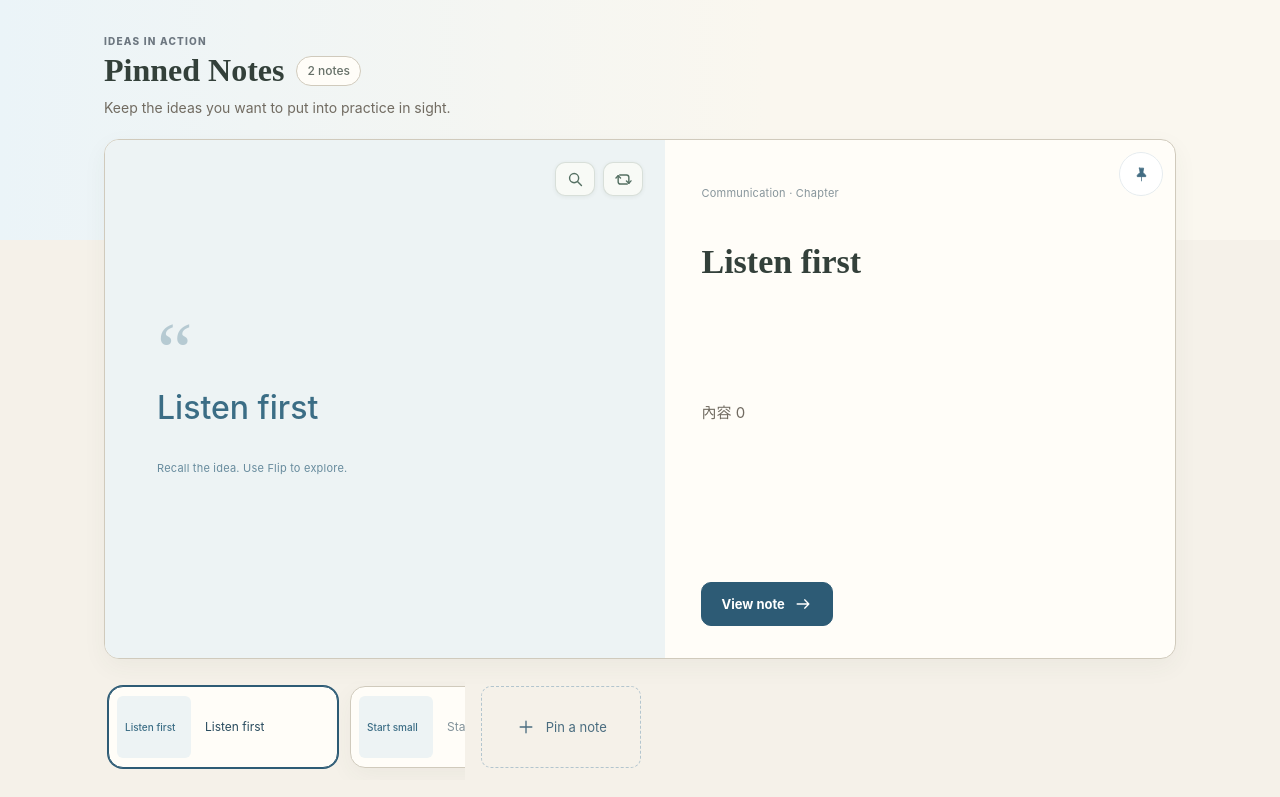
Test: F45 T4: focus shows one note, thumbnails select, picker filters, pins and prevents duplicate selection
Expected: the heading "Pinned Notes 2 notes" is shown, [104, 52, 361, 88]
Expected: the heading "Listen first" is shown, [702, 243, 861, 280]
Click the button with aria-label "Select note: Start small" at (465, 727), box [350, 686, 580, 768]
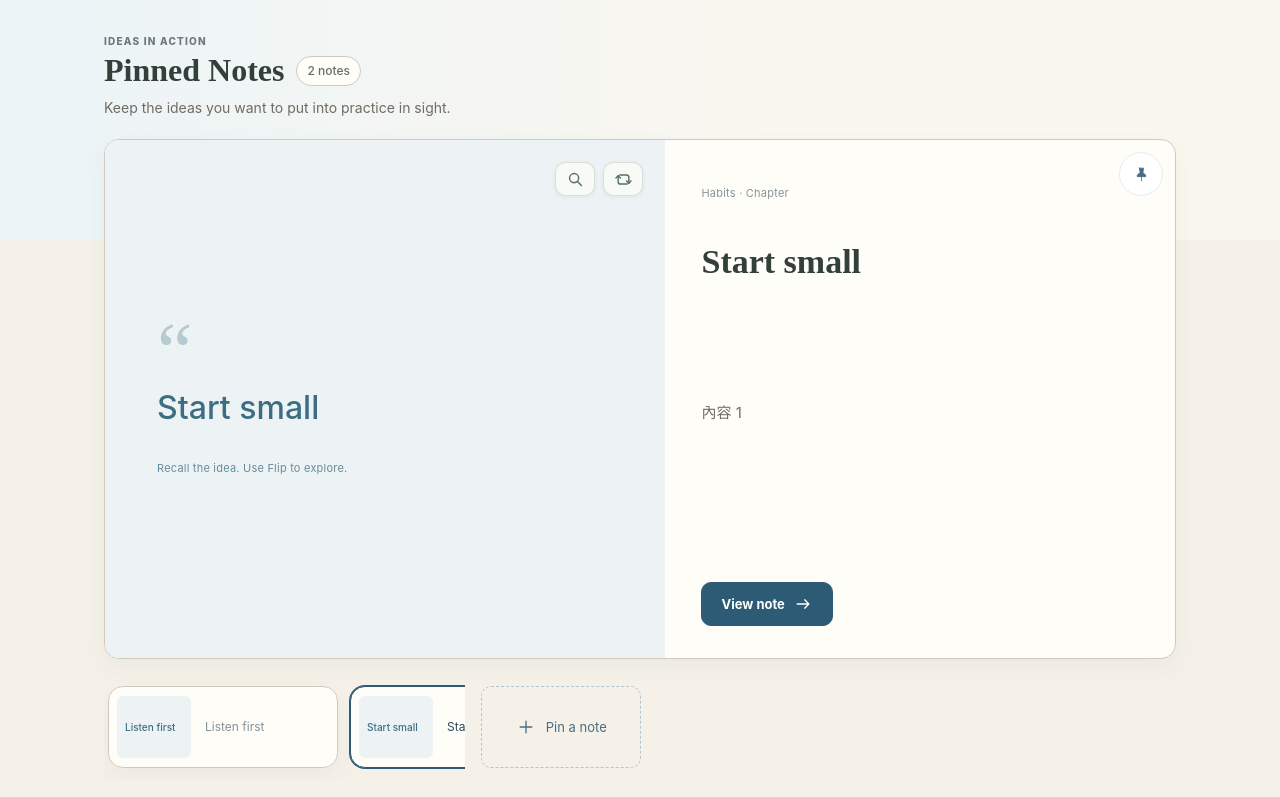
Expected: the heading "Start small" is shown, [702, 243, 861, 280]
Click the button "Pin a note" at (561, 727), box [481, 686, 641, 768]
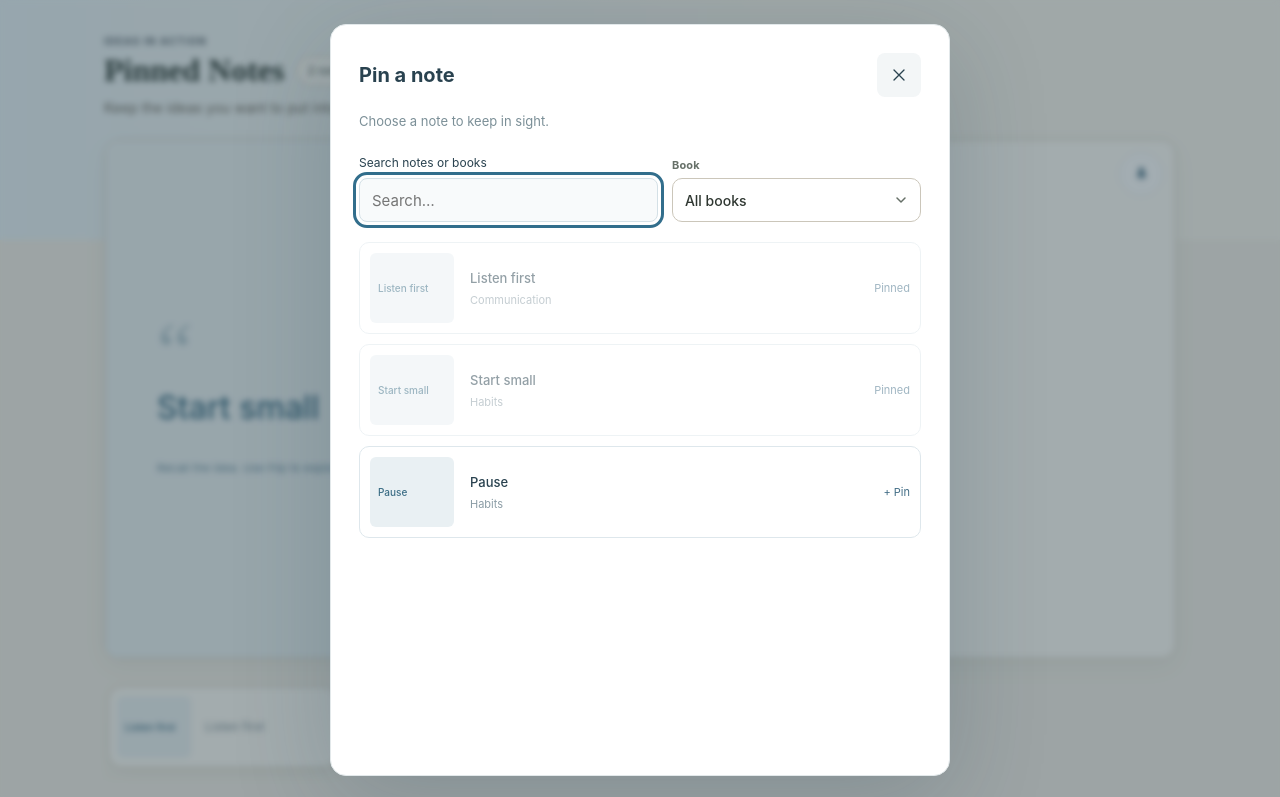
Expected: the button with aria-label "Pinned: Listen first" is disabled, [359, 242, 921, 334]
Type "  HABITS  " into the search field at (508, 200), box [359, 178, 658, 222]
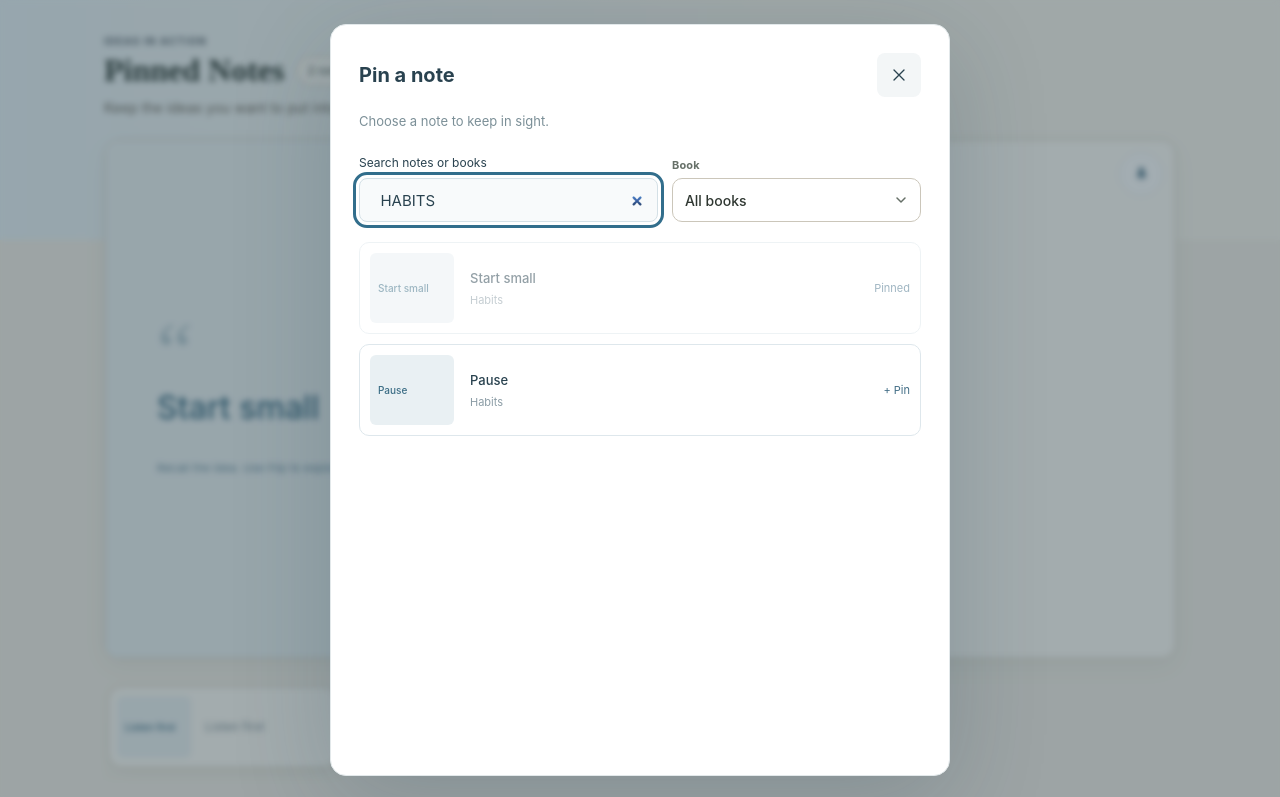
Click the button with aria-label "Pin: Pause" at (412, 390), box [359, 344, 921, 436]
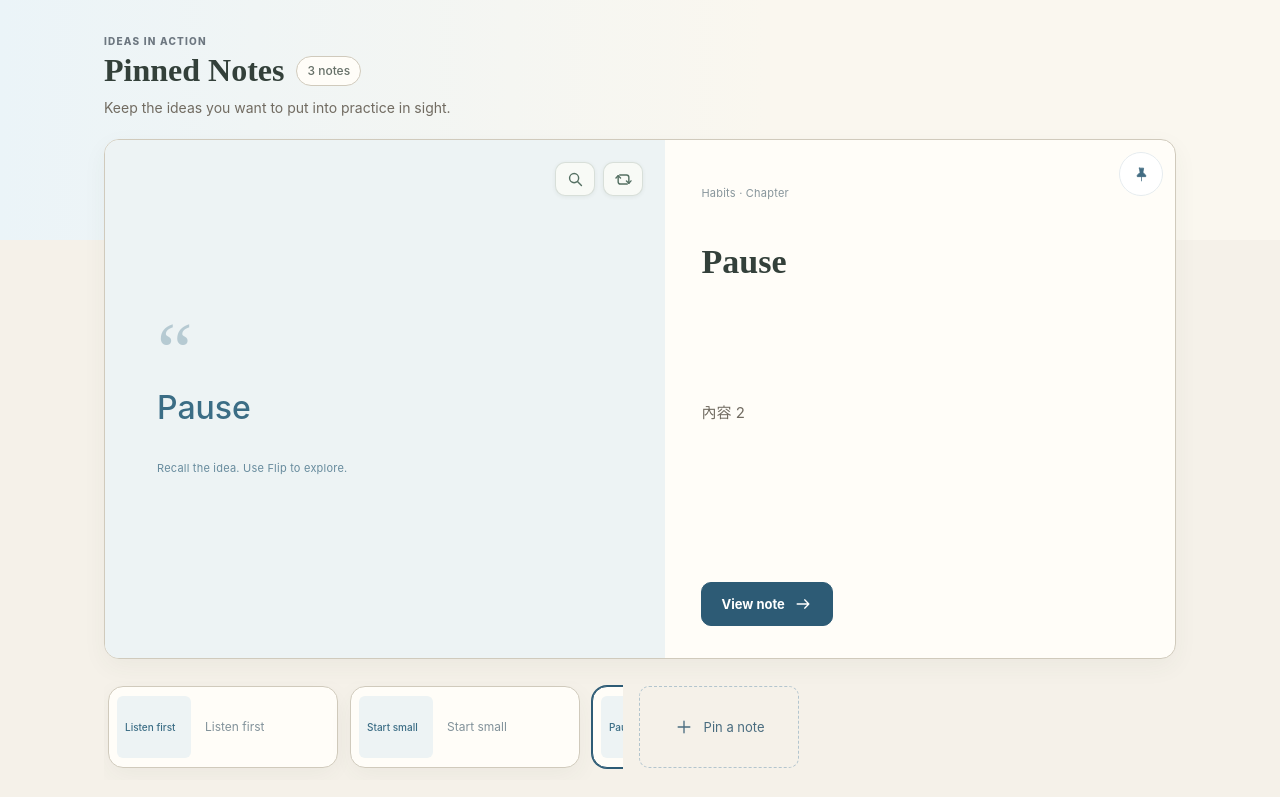
Expected: the heading "Pause" is shown, [702, 243, 786, 280]
Click the button named "Unpin: Pause" at (1141, 174), box [1119, 152, 1163, 196]
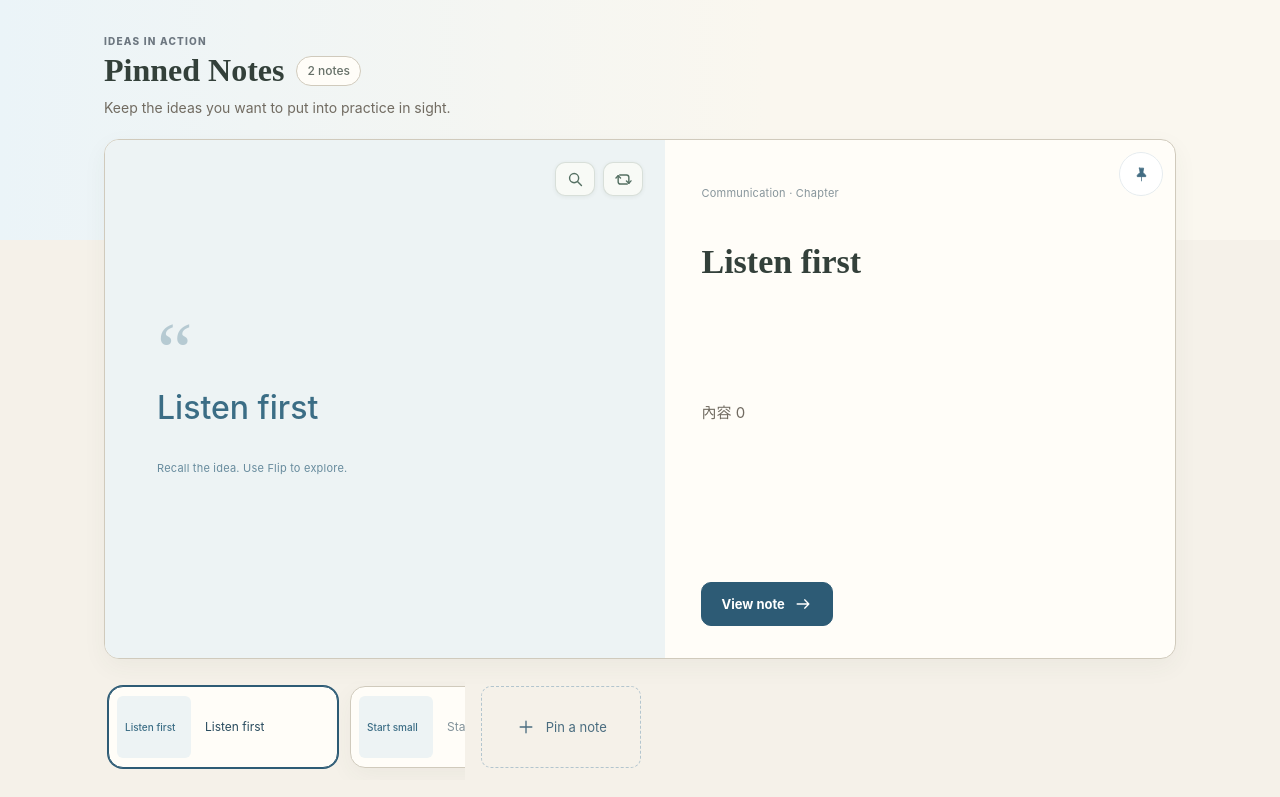
Expected: the heading "Listen first" is shown, [702, 243, 861, 280]
